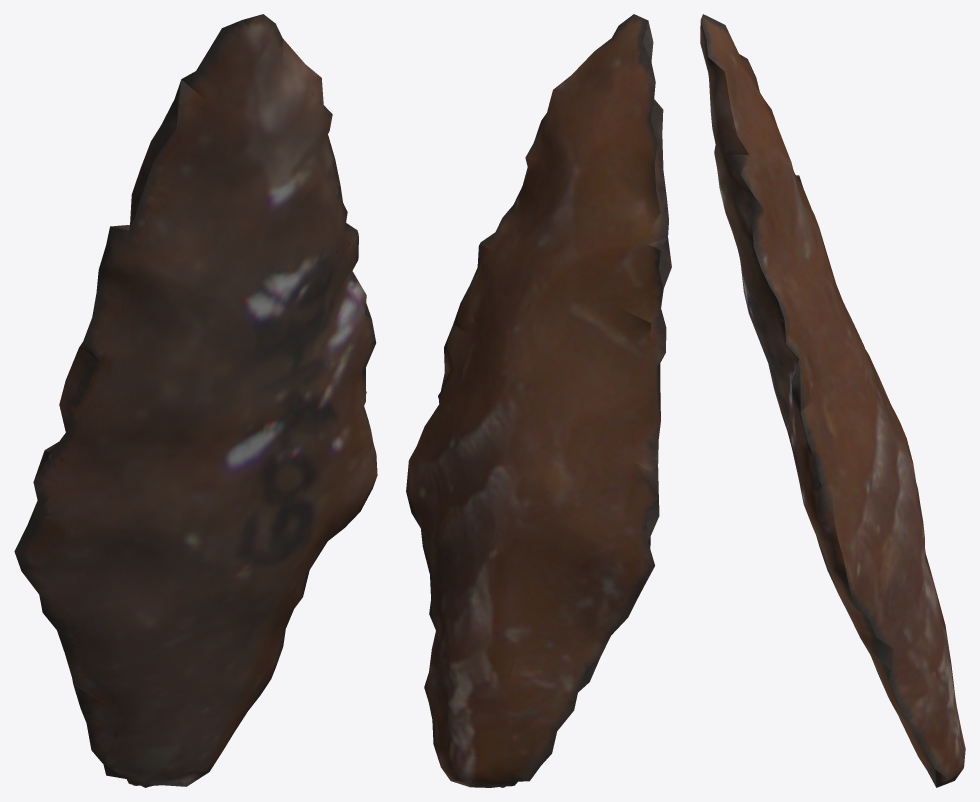
File: arrowhead271409.glb
3 renders of one model, left to right at view 1: azimuth 30°, elevation 25°; view 2: azimuth 150°, elevation 25°; view 3: azimuth 270°, elevation 25°, orthographic. The views are drawn at different scales.
Visible parts, largest first — view 1: Object_2; view 2: Object_2; view 3: Object_2.
Boxes of the visible parts, x1,y1,x2,y2 form: Object_2: (14,14,377,787); Object_2: (406,14,671,787); Object_2: (700,14,965,787).
Size of the model in its own units: 9.79 by 24.77 by 8.06.
Materials: 1 (1 with a texture image).
